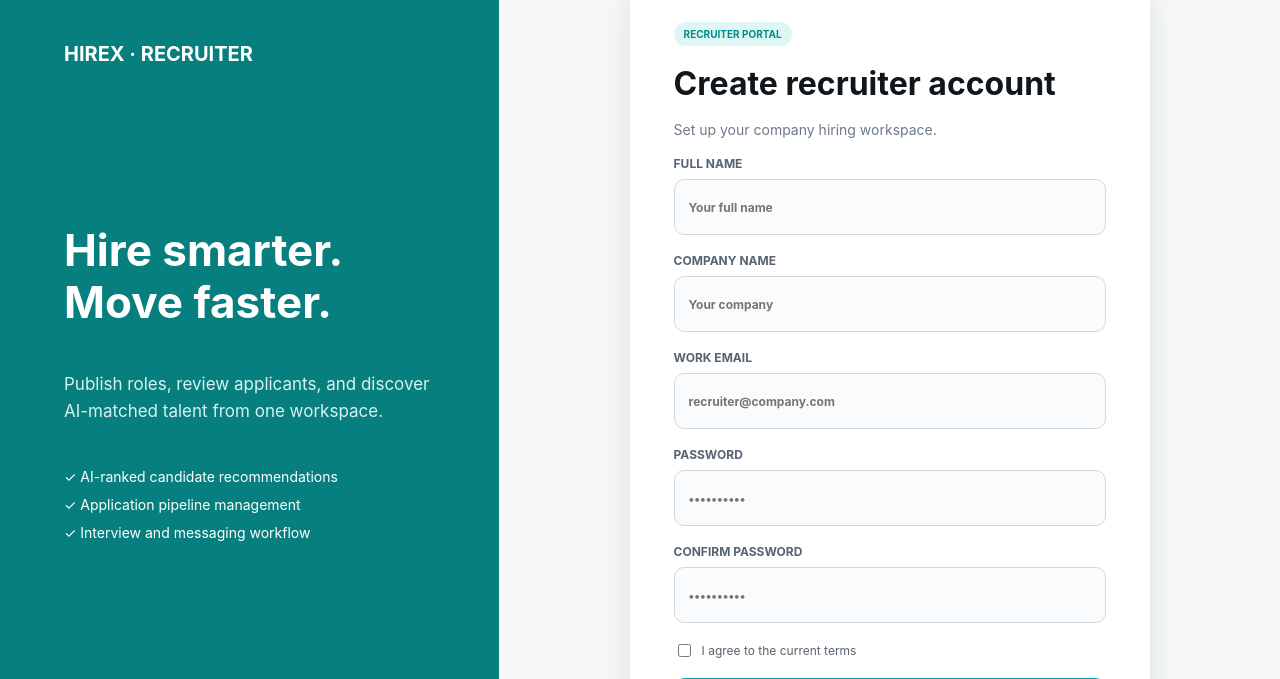
Test case: AuthPage › blocks registration when passwords do not match
Type "River Recruiter" into the field labelled "FULL NAME".
click(890, 207); type("River Recruiter")  # box [674,179,1106,235]
Type "River Labs" into the field labelled "COMPANY NAME".
click(890, 304); type("River Labs")  # box [674,276,1106,332]
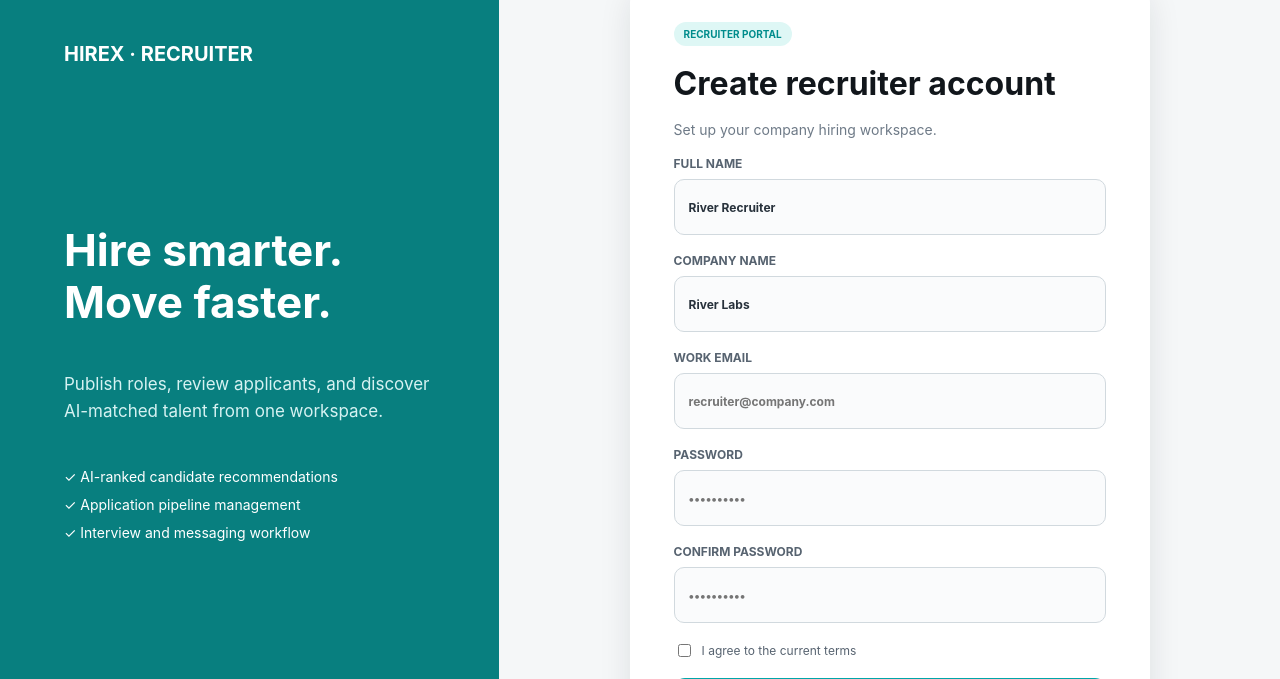
Type "river@example.com" into the field labelled "WORK EMAIL".
click(890, 401); type("river@example.com")  # box [674,373,1106,429]
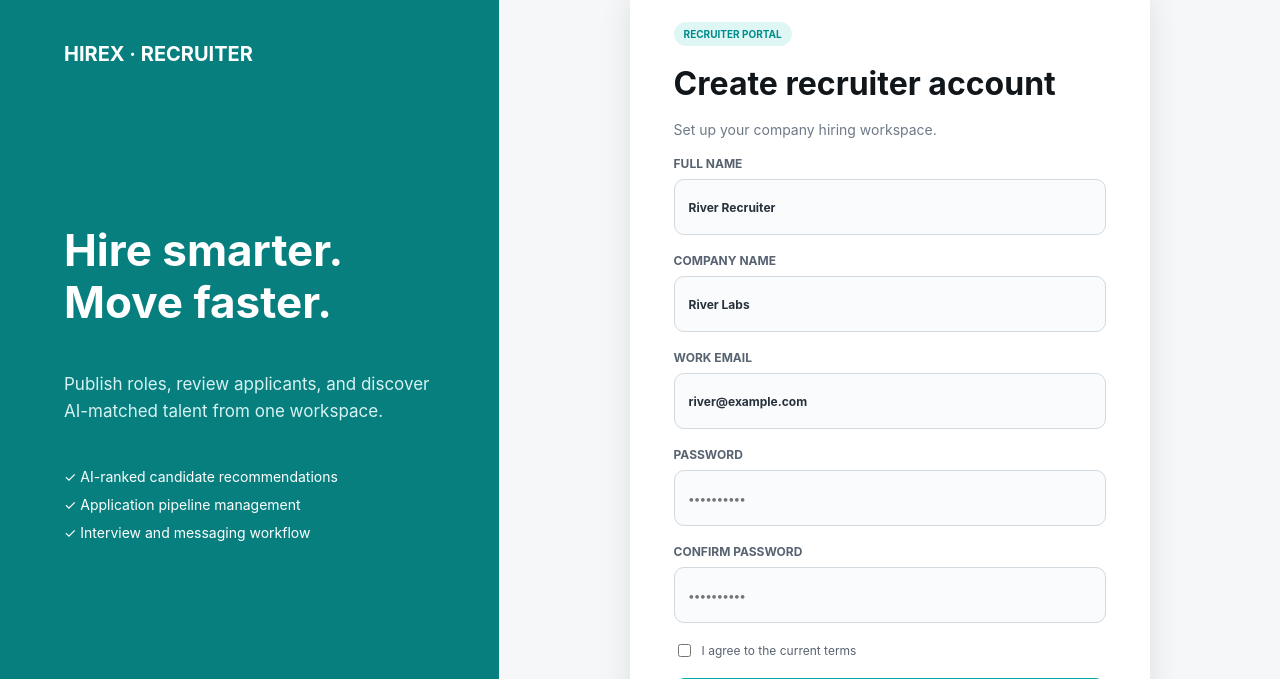
Type "Password1!" into the password field labelled "PASSWORD".
click(890, 498); type("Password1!")  # box [674,470,1106,526]
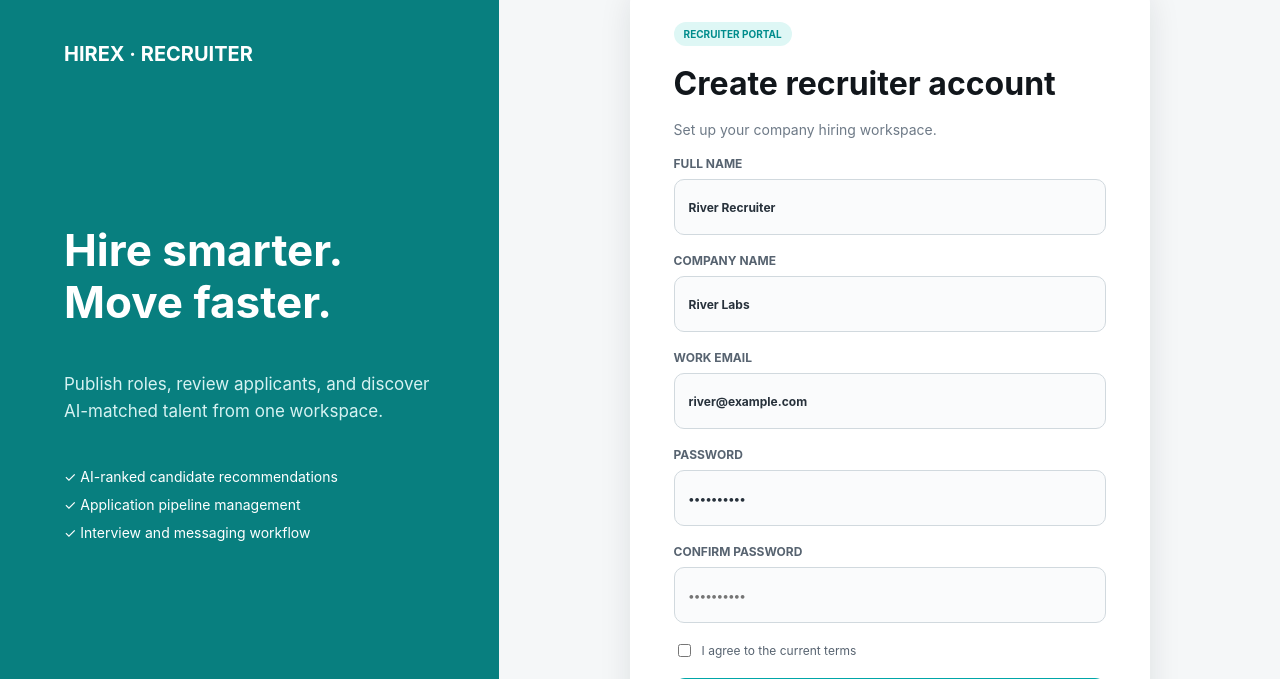
Type "Different1!" into the password field labelled "CONFIRM PASSWORD".
click(890, 595); type("Different1!")  # box [674,567,1106,623]
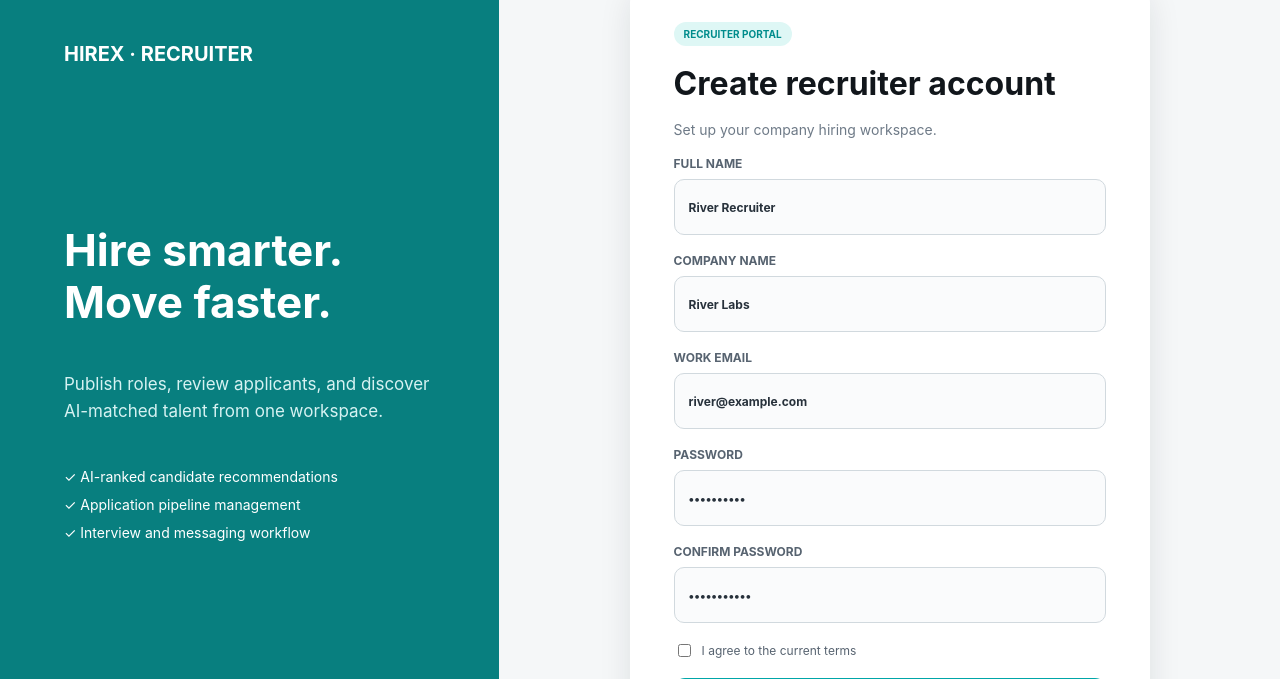
Click the checkbox.
click(684, 650)  # box [678,644,691,657]
(page scrolled)
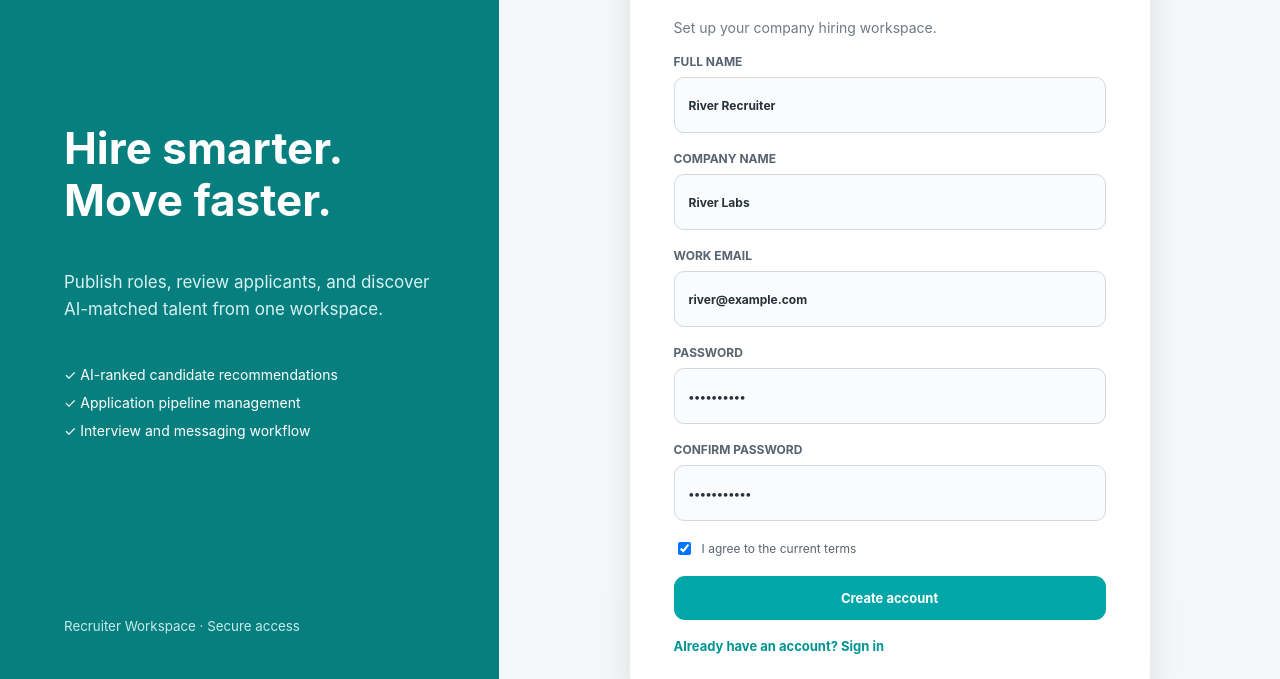
Click the button "Create account".
click(890, 598)  # box [674,576,1106,620]
(page scrolled)
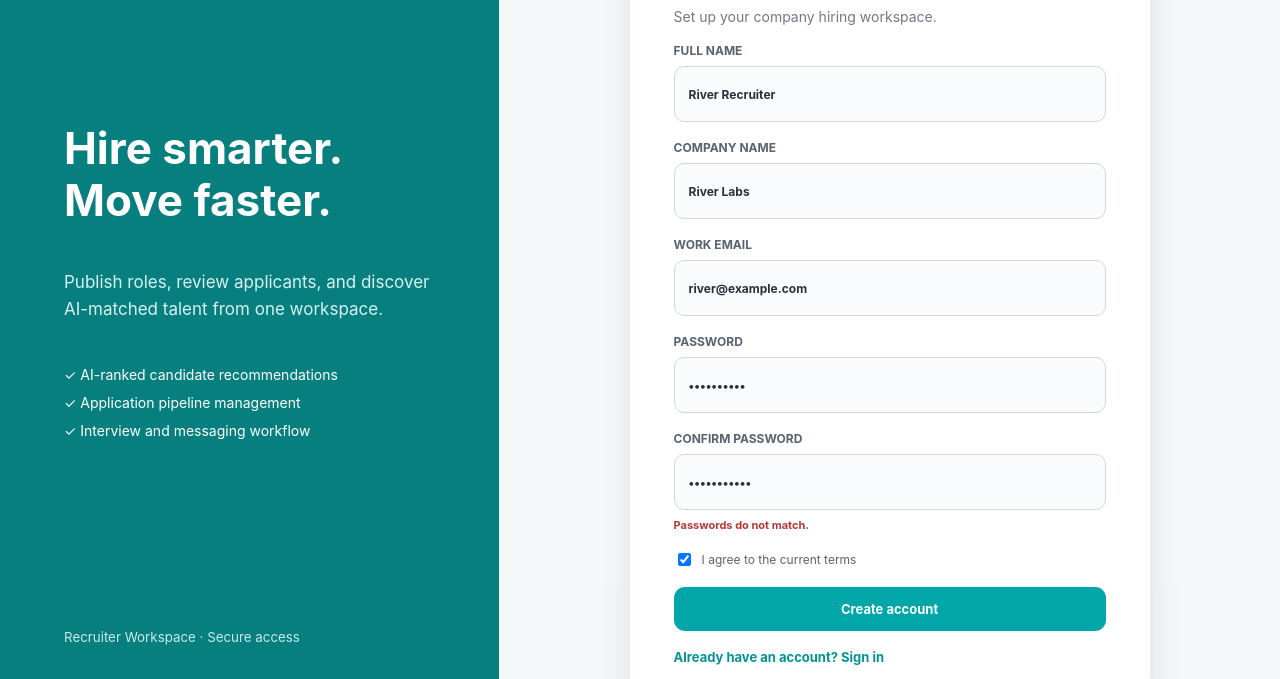
Expected: the text "Passwords do not match." is shown, [674,518,809,532]
